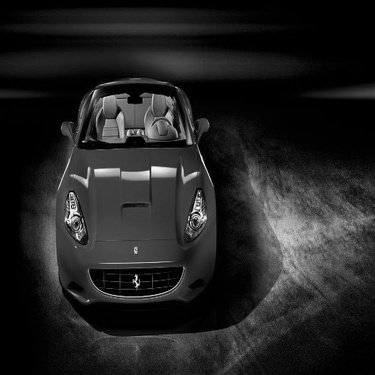car: (52, 73, 215, 315)
